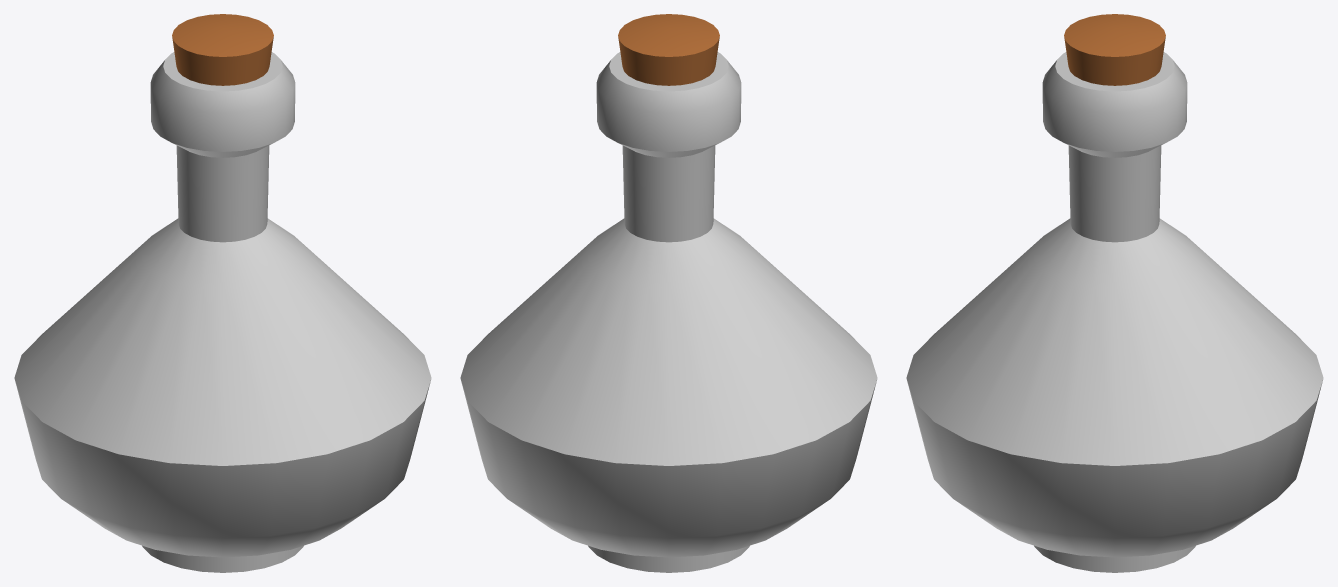
File: potionMedium_green.obj
3 views of the same model, side by side, from view 1: azimuth 30°, elevation 25°; view 2: azimuth 150°, elevation 25°; view 3: azimuth 270°, elevation 25° (orthographic).
Parts seen in each view (by area): view 1: potionMedium_green_Cylinder.175; view 2: potionMedium_green_Cylinder.175; view 3: potionMedium_green_Cylinder.175.
Boxes of the visible parts, left/top/right/bottom form: potionMedium_green_Cylinder.175: left=14, top=14, right=431, bottom=572; potionMedium_green_Cylinder.175: left=460, top=14, right=877, bottom=572; potionMedium_green_Cylinder.175: left=906, top=14, right=1323, bottom=572.
Size of the model in its own units: 0.7978 by 1.08 by 0.7978.
